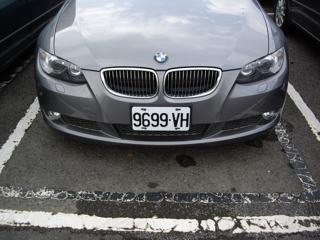plate: (129, 103, 191, 135)
